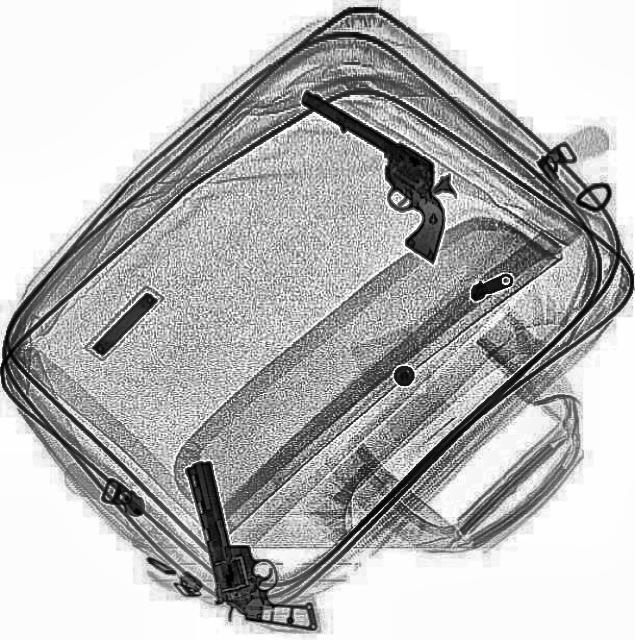Gun: (256, 88, 482, 262), (184, 447, 318, 638)
